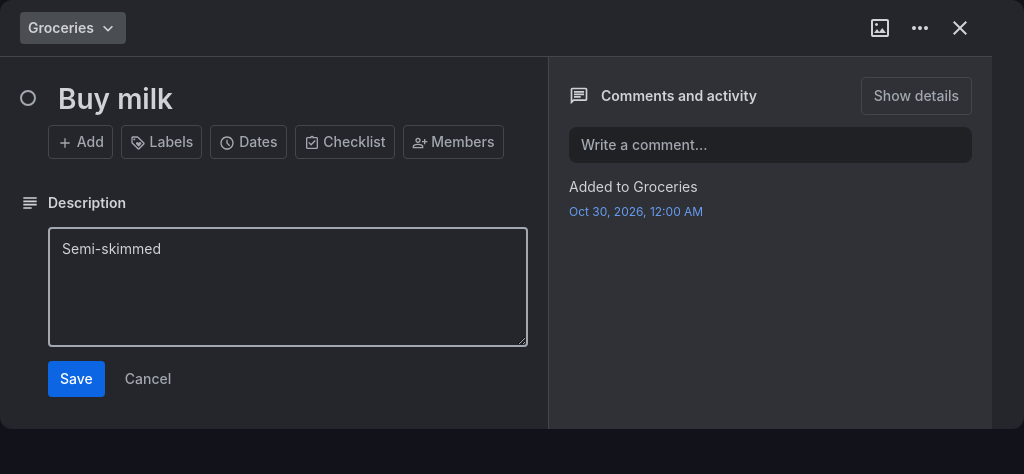
Test case: EditTaskcardModalComponent › editing the description › keeps the typed text and reports it when the save fails
Replace the text in the text box named "Card description" with "Do not lose me": (288, 287) [48,227,528,347]
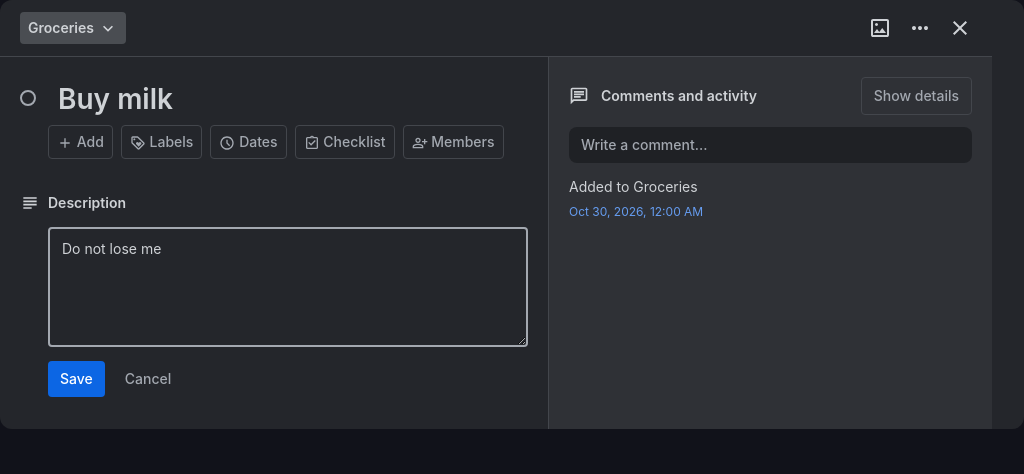
Click the button "Save": (76, 379) [48,361,105,397]
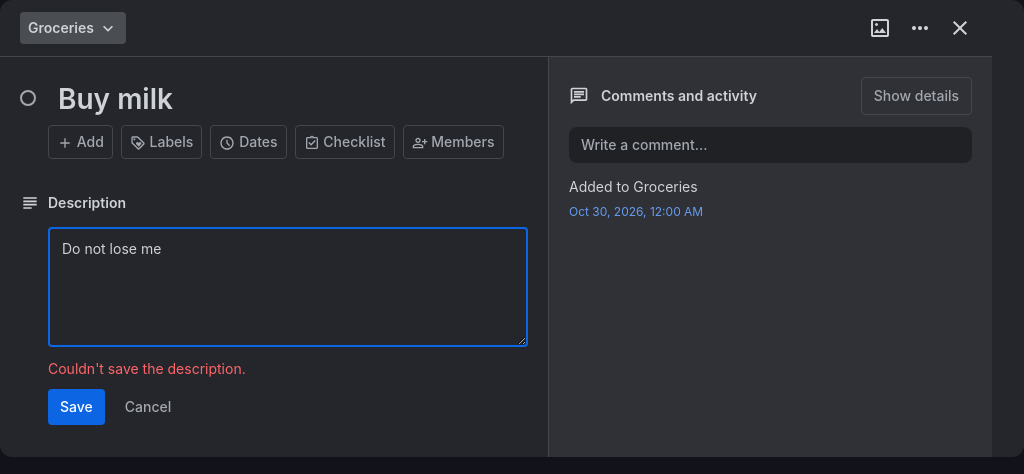
Check: the text "Couldn't save the description." is shown, box [48,360,246,377]
